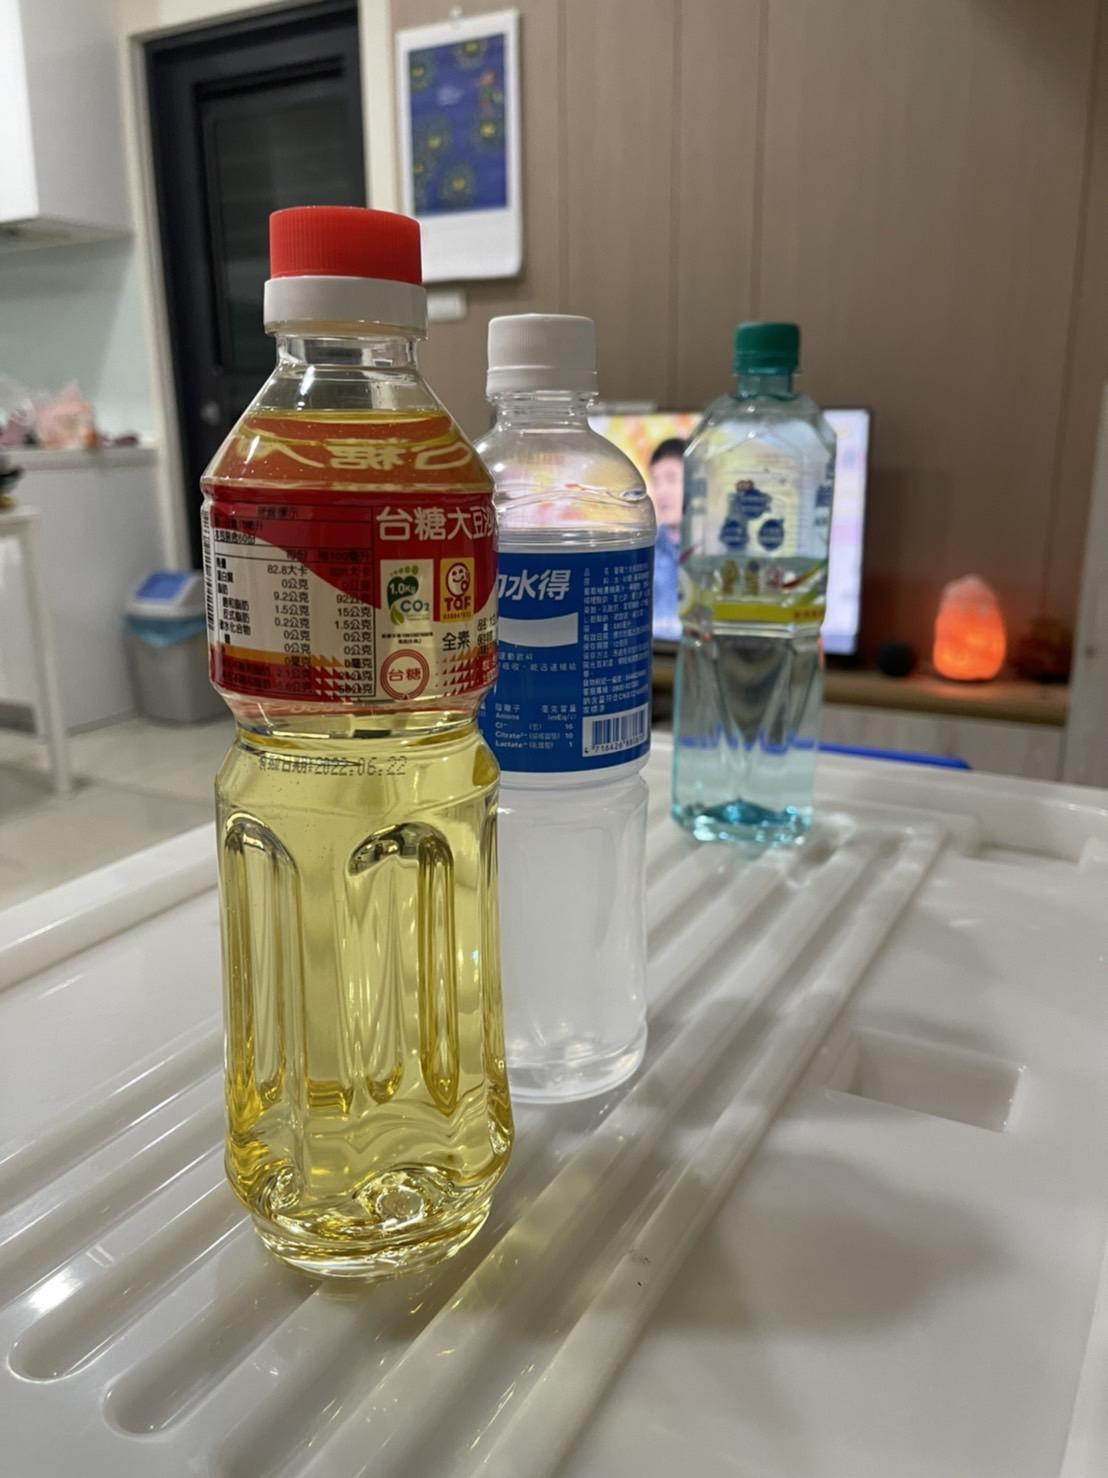bottle: (183, 190, 533, 1282), (477, 289, 659, 1109), (656, 294, 847, 871)
